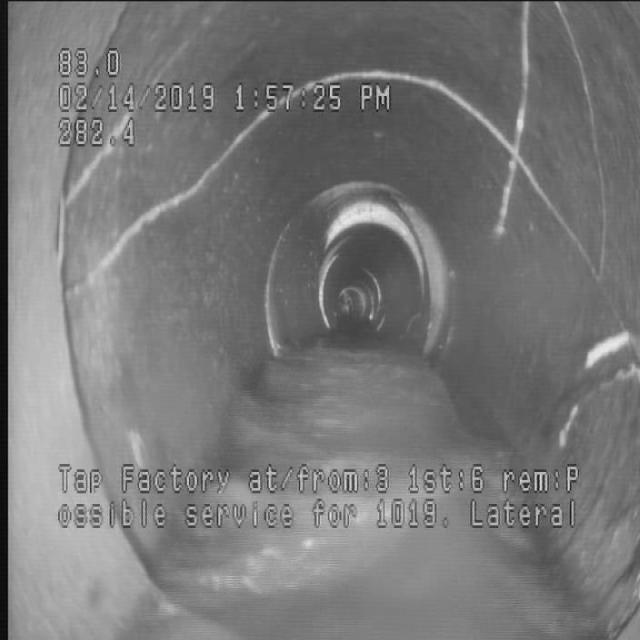Crack: (446, 53, 574, 250), (79, 146, 242, 280)
